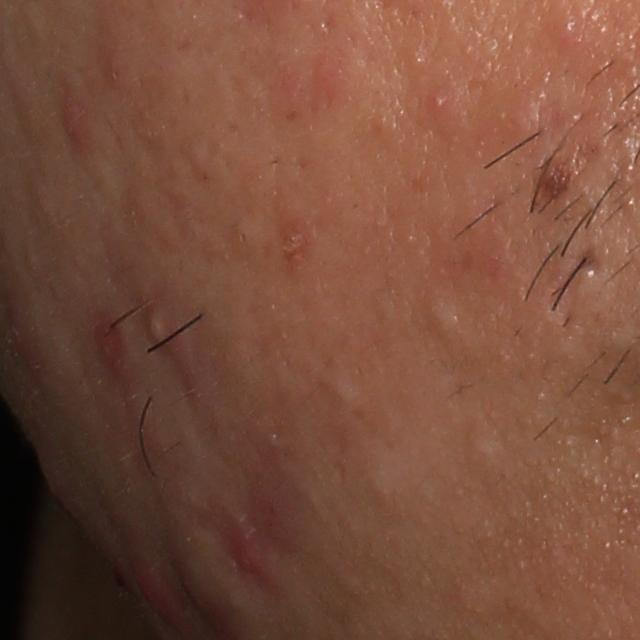comedo: (422, 283, 473, 339), (322, 371, 362, 405), (428, 91, 448, 115)
papule: (130, 566, 185, 636), (227, 519, 268, 578), (54, 87, 86, 156), (92, 313, 129, 366)
